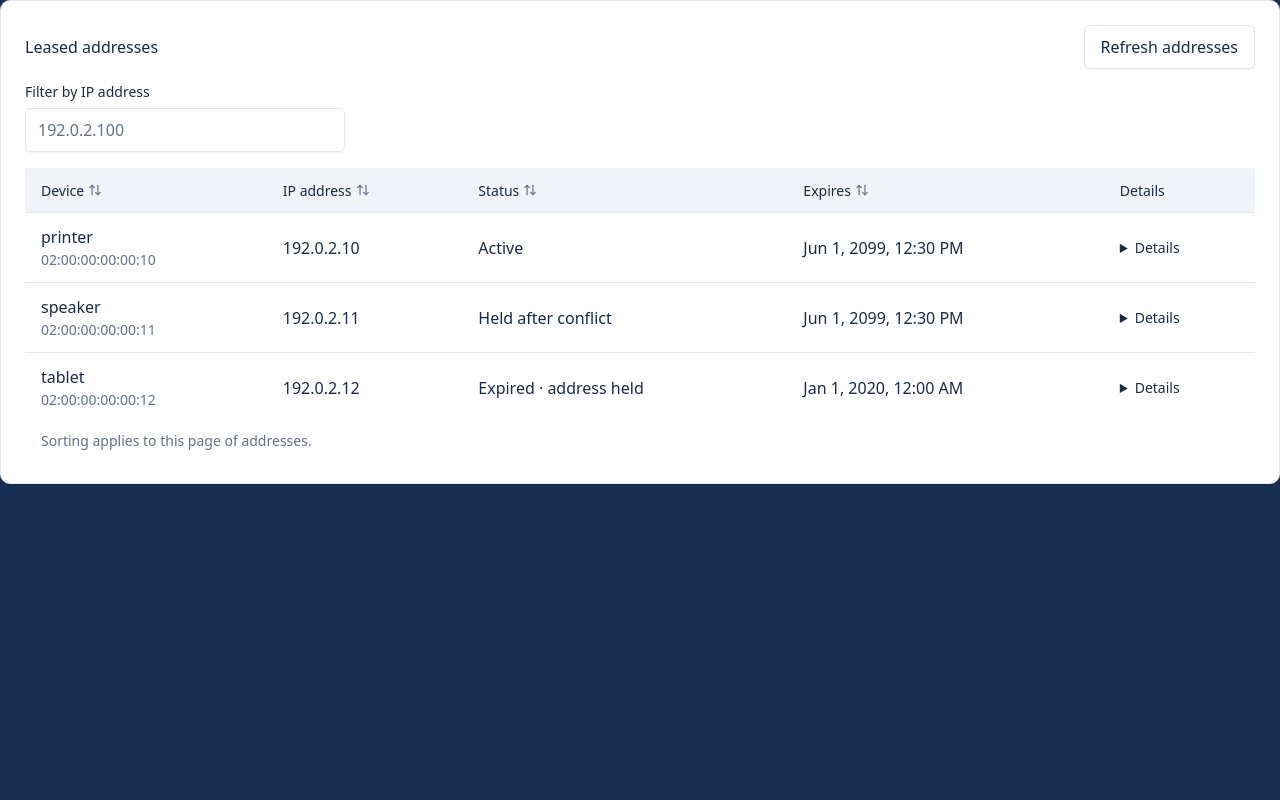
it: distinguishes active leases from expired and conflict holds, keeping internals in row details
The image size is (1280, 800).
Expected: the text "Active" is shown, [462,212,787,282]
Expected: the text "Held after conflict" is shown, [462,282,787,352]
Click the heading named "Address details for 192.0.2.10" at (1157, 248), box [1135,238,1180,257]
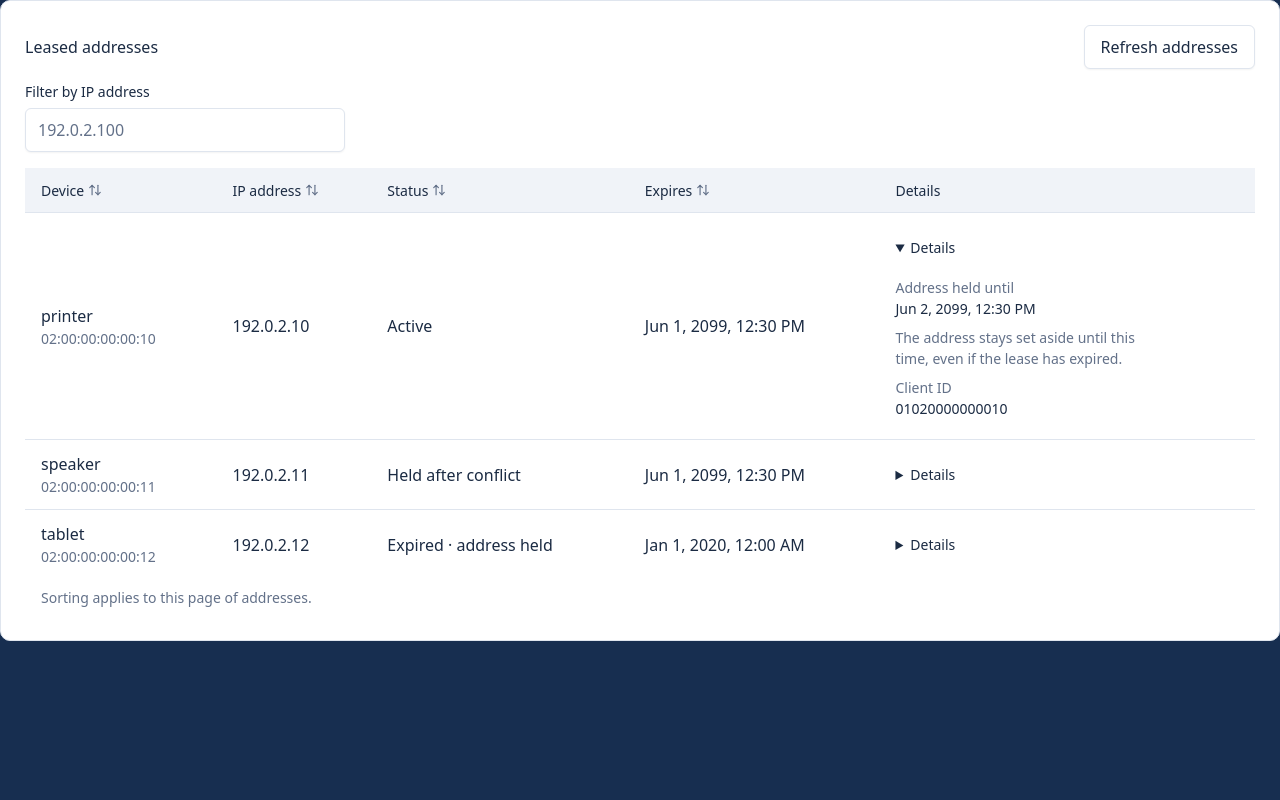
Now the text "01020000000010" is shown, box [895,399,1008,418]
